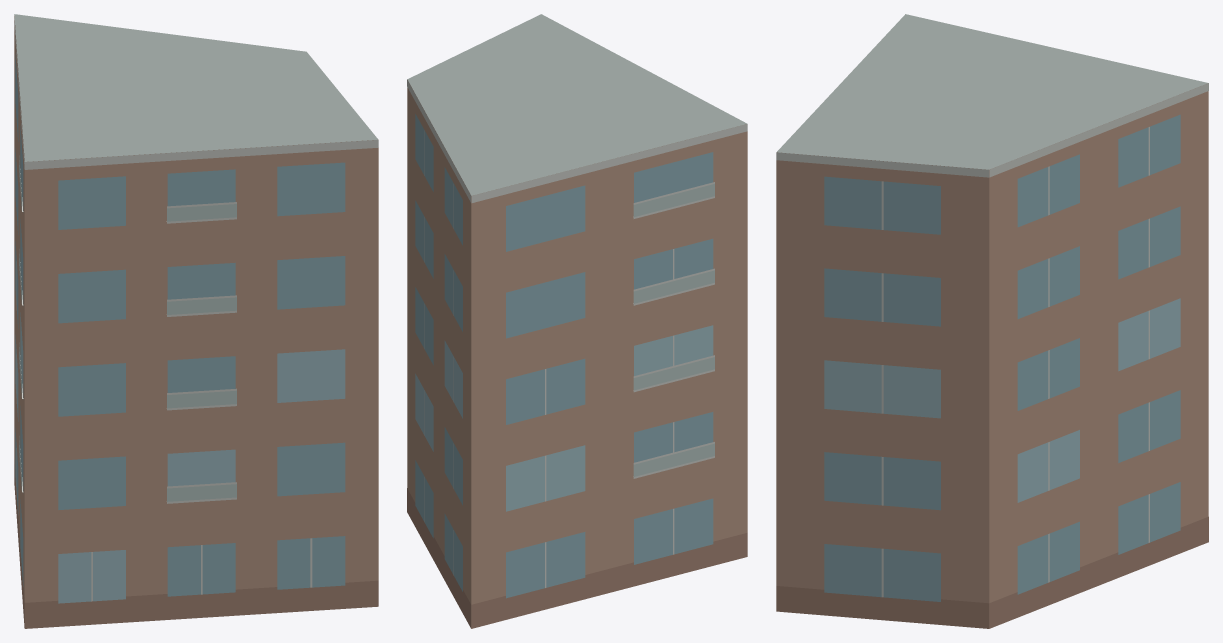
Rendered from survey-upis-32722753.glb.
3 views of the same model, side by side, from view 1: azimuth 30°, elevation 25°; view 2: azimuth 150°, elevation 25°; view 3: azimuth 270°, elevation 25° (orthographic). The views are drawn at different scales.
Visible parts, largest first — view 1: survey-upis-32722753.tmp; view 2: survey-upis-32722753.tmp; view 3: survey-upis-32722753.tmp.
Part boxes in pixels (x1,y1,x2,y2): survey-upis-32722753.tmp: (14,14,378,628); survey-upis-32722753.tmp: (407,14,747,628); survey-upis-32722753.tmp: (776,14,1208,628).
Bounding box in the file's own units: 10.3 × 14.15 × 12.09.
